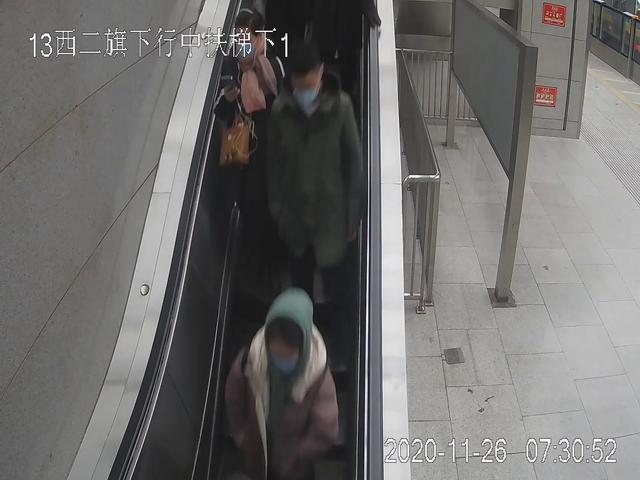person: (268, 48, 363, 386), (222, 289, 341, 480), (214, 9, 292, 297)
